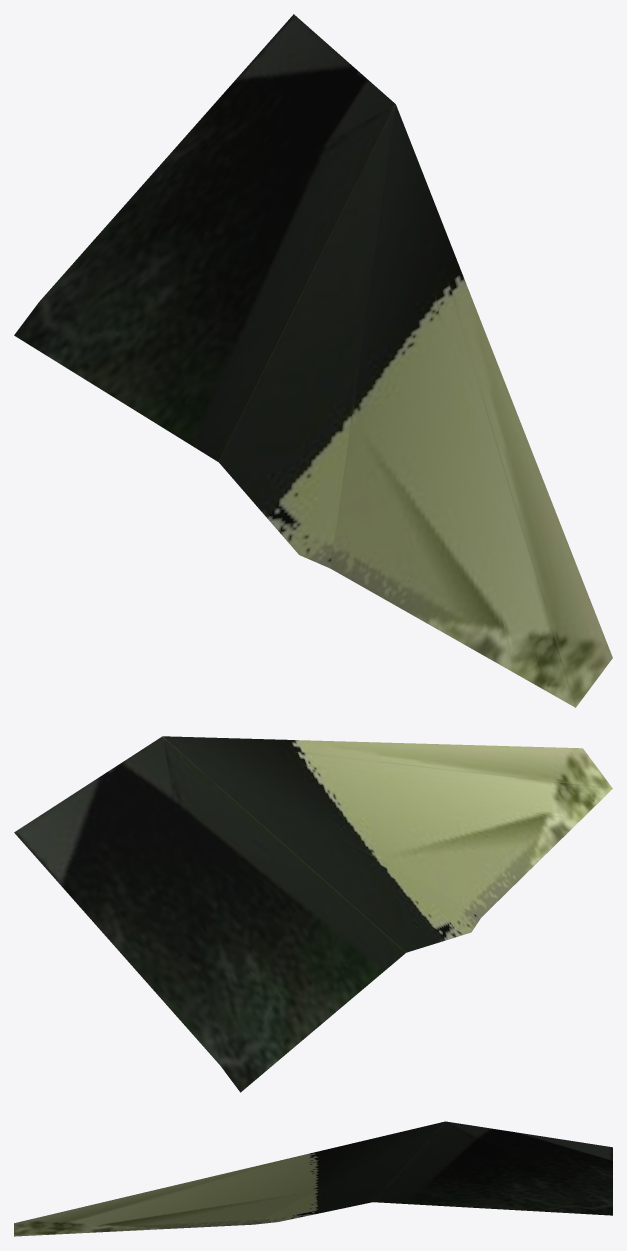
3 views of the same model, one above another, from view 1: azimuth 30°, elevation 25°; view 2: azimuth 150°, elevation 25°; view 3: azimuth 270°, elevation 25° (orthographic). The views are drawn at different scales.
Size of the model in its own units: 1.87 by 1.84 by 5.9.
Materials: 1 (1 with a texture image).
